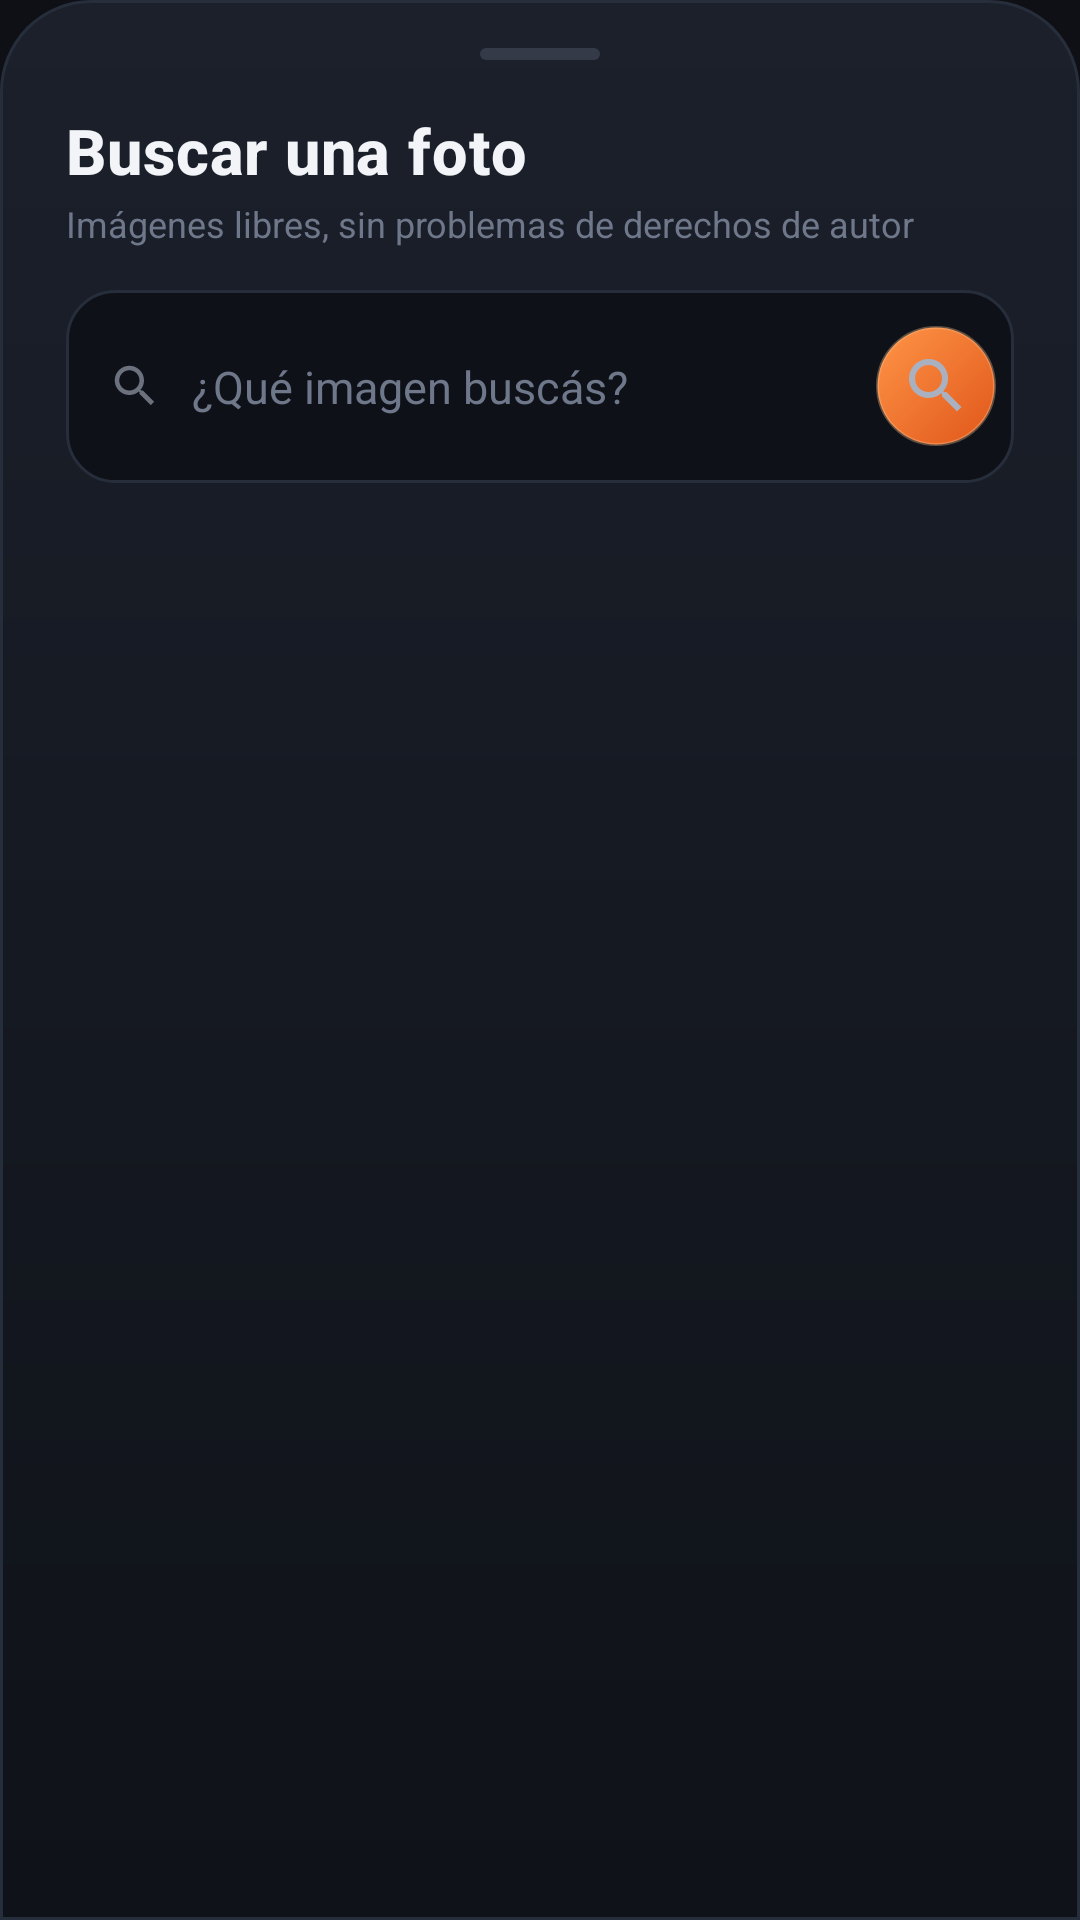

Where icons sit on this 1080x1920 app screen, as (x1, y1, x2, y2):
search: (876, 326, 996, 446), (114, 365, 154, 405)
